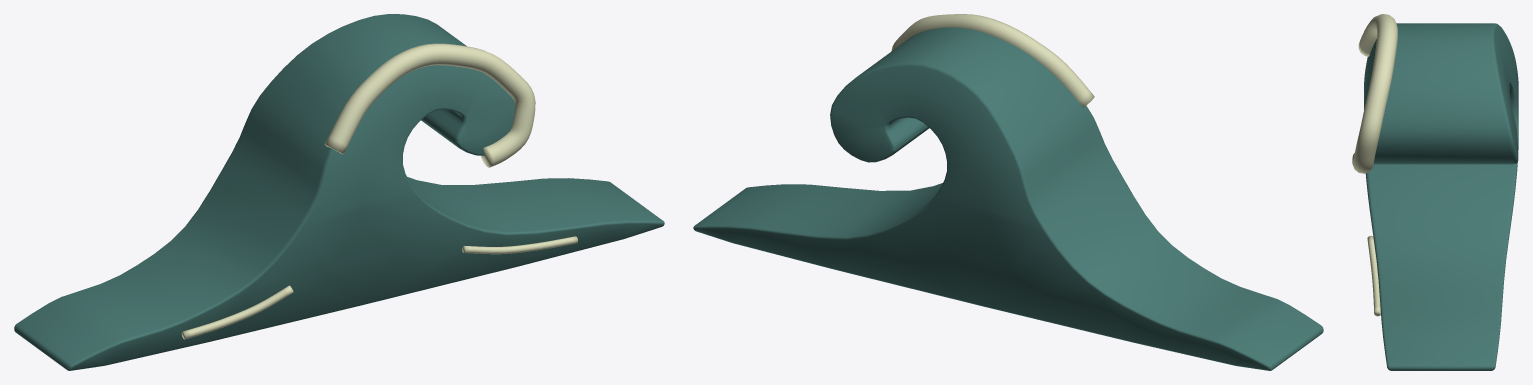
Rendered from shore_wave_module.glb.
3 views of the same model, side by side, from view 1: azimuth 30°, elevation 25°; view 2: azimuth 150°, elevation 25°; view 3: azimuth 270°, elevation 25° (orthographic). The views are drawn at different scales.
Visible parts, largest first — view 1: WaterBody, FoamCrest, FoamTrail_A, FoamTrail_B; view 2: WaterBody, FoamCrest; view 3: WaterBody, FoamCrest, FoamTrail_B.
Part boxes in pixels (x1=…): WaterBody: x1=14, y1=14, x2=664, y2=370; FoamCrest: x1=324, y1=43, x2=535, y2=167; FoamTrail_A: x1=181, y1=285, x2=293, y2=339; FoamTrail_B: x1=462, y1=236, x2=577, y2=254; WaterBody: x1=693, y1=27, x2=1323, y2=370; FoamCrest: x1=891, y1=14, x2=1094, y2=107; WaterBody: x1=1364, y1=23, x2=1518, y2=370; FoamCrest: x1=1352, y1=14, x2=1397, y2=173; FoamTrail_B: x1=1367, y1=235, x2=1380, y2=316.
Size of the model in its own units: 4.14 by 1.63 by 1.03.
